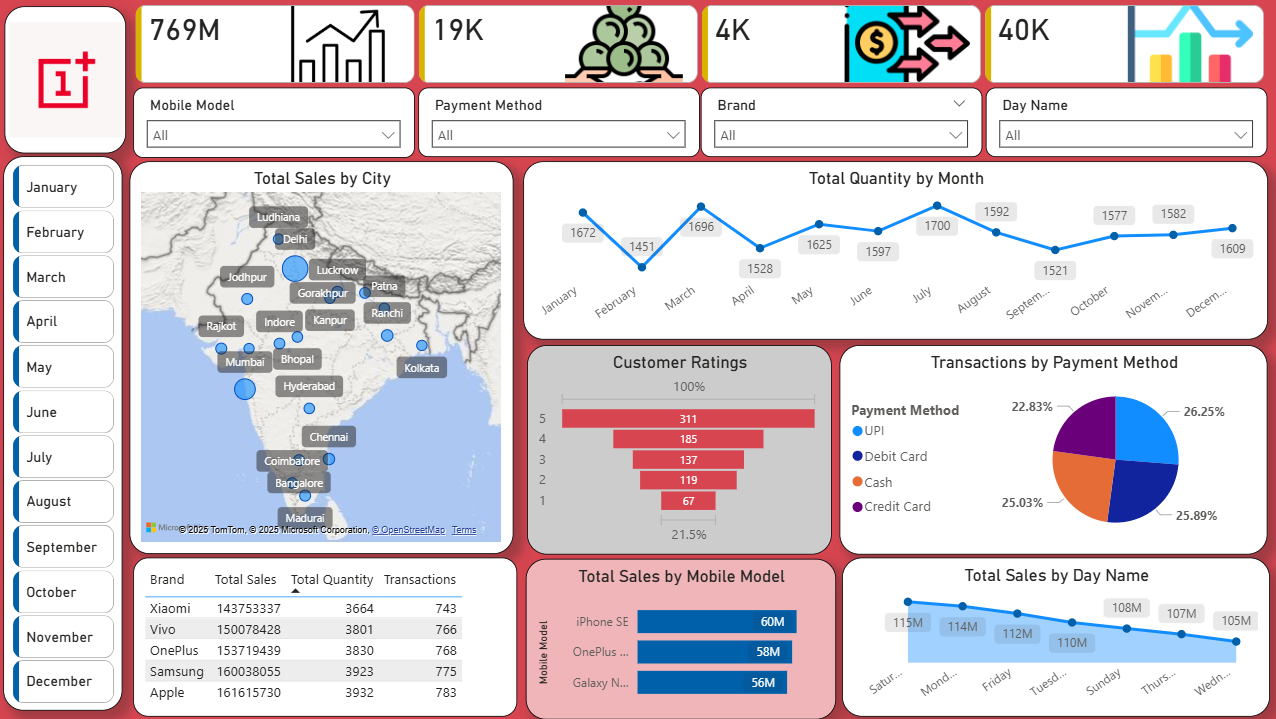

The page's visual inventory and layout, read from the dashboard file:
{"tool":"powerbi","page":{"name":"Page 1","canvas":[1280,720],"ordinal":0},"visuals":[{"type":"shape","box":[7.4,6.1,121.5,147.2],"z":1000},{"type":"image","box":[7.5,6.2,125,147.5],"z":1500},{"type":"shape","box":[6.9,156.4,119.4,554.4],"z":2000},{"type":"advancedSlicerVisual","fields":{"Values":["Sales_Data.Date.Variation.Date Hierarchy.Month"]},"box":[11,160.5,111.1,548.9],"z":3000},{"type":"cardVisual","fields":{"Data":["Sales_Data.Total Sales","Sales_Data.Total Quantity","Sales_Data.Transactions","Sales_Data.Average"]},"box":[134,5.6,1140.1,83.7],"z":4000},{"type":"map","fields":{"Category":["Sales_Data.City"],"Size":["Sales_Data.Total Sales"]},"box":[132.9,160.8,384.1,393.1],"z":5000},{"type":"lineChart","fields":{"Y":["Sales_Data.Total Quantity"],"Category":["Sales_Data.Date.Variation.Date Hierarchy.Month","Sales_Data.Date.Variation.Date Hierarchy.Day"]},"box":[525.9,160.8,744.8,178.7],"z":6000},{"type":"clusteredBarChart","fields":{"Category":["Sales_Data.Mobile Model"],"Y":["Sales_Data.Total Sales"]},"box":[528.3,558.5,310.1,160.5],"z":7000},{"type":"pieChart","fields":{"Category":["Sales_Data.Payment Method"],"Y":["Sales_Data.Transactions"]},"box":[842.5,344.4,428.1,209.9],"z":8000},{"type":"funnel","title":"Customer Ratings","fields":{"Category":["Sales_Data.Customer Ratings"],"Y":["CountNonNull(Sales_Data.Customer Ratings)"]},"box":[529.7,344.4,304.6,209.9],"z":9000},{"type":"areaChart","fields":{"Category":["Sales_Data.Day Name"],"Y":["Sales_Data.Total Sales"]},"box":[845.3,557.1,428.1,159.2],"z":10000},{"type":"tableEx","fields":{"Values":["Sales_Data.Brand","Sales_Data.Total Sales","Sales_Data.Total Quantity","Sales_Data.Transactions"]},"box":[135.8,557.1,384.2,159.2],"z":11000},{"type":"slicer","fields":{"Values":["Sales_Data.Mobile Model"]},"box":[136.2,87.1,281.4,70.3],"z":12000},{"type":"slicer","fields":{"Values":["Sales_Data.Payment Method"]},"box":[421,87.1,281.4,69.2],"z":13000},{"type":"slicer","fields":{"Values":["Sales_Data.Brand"]},"box":[703.5,87.1,281.4,69.2],"z":14000},{"type":"slicer","fields":{"Values":["Sales_Data.Day Name"]},"box":[988.2,87.1,281.4,69.2],"z":15000}]}

Visuals, with their boxes in screenshot pixels (x1, y1, x2, y2), scaled from the page's 1280x720 canvas onto the 1276x719 screenshot:
shape: l=7, t=6, r=128, b=153
image: l=7, t=6, r=132, b=153
shape: l=7, t=156, r=126, b=710
advancedSlicerVisual - Sales_Data.Date.Variation.Date Hierarchy.Month: l=11, t=160, r=122, b=708
cardVisual - Sales_Data.Total Sales x Sales_Data.Total Quantity: l=134, t=6, r=1270, b=89
map - Sales_Data.City x Sales_Data.Total Sales: l=132, t=161, r=515, b=553
lineChart - Sales_Data.Total Quantity x Sales_Data.Date.Variation.Date Hierarchy.Month: l=524, t=161, r=1267, b=339
clusteredBarChart - Sales_Data.Mobile Model x Sales_Data.Total Sales: l=527, t=558, r=836, b=718
pieChart - Sales_Data.Payment Method x Sales_Data.Transactions: l=840, t=344, r=1267, b=554
"Customer Ratings" funnel: l=528, t=344, r=832, b=554
areaChart - Sales_Data.Day Name x Sales_Data.Total Sales: l=843, t=556, r=1269, b=715
tableEx - Sales_Data.Brand x Sales_Data.Total Sales: l=135, t=556, r=518, b=715
slicer - Sales_Data.Mobile Model: l=136, t=87, r=416, b=157
slicer - Sales_Data.Payment Method: l=420, t=87, r=700, b=156
slicer - Sales_Data.Brand: l=701, t=87, r=982, b=156
slicer - Sales_Data.Day Name: l=985, t=87, r=1266, b=156
